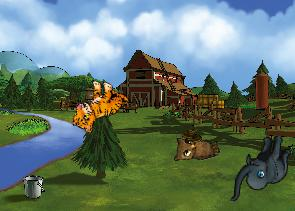elephant: (229, 131, 292, 206)
owl: (169, 127, 221, 166)
tiger: (68, 74, 131, 141)
